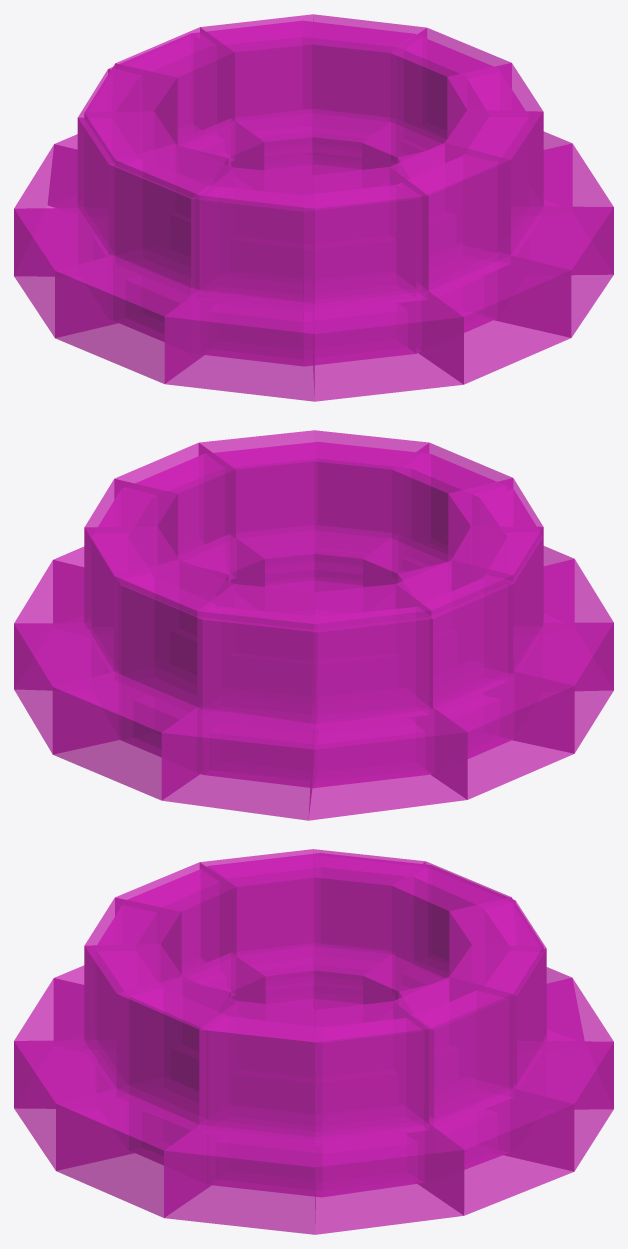
File: SM_Prop_Spa_01_Collision.fbx
The picture shows the model from 3 angles, top to bottom: view 1: azimuth 30°, elevation 25°; view 2: azimuth 150°, elevation 25°; view 3: azimuth 270°, elevation 25°; orthographic projection.
Visible parts, largest first — view 1: SM_Prop_Spa_01_Collision; view 2: SM_Prop_Spa_01_Collision; view 3: SM_Prop_Spa_01_Collision.
Boxes of the visible parts, box(x1,y1,x2,y2) form: SM_Prop_Spa_01_Collision: box(14, 14, 613, 401); SM_Prop_Spa_01_Collision: box(14, 430, 613, 820); SM_Prop_Spa_01_Collision: box(14, 849, 613, 1234).
Size of the model in its own units: 458 by 140 by 460.
